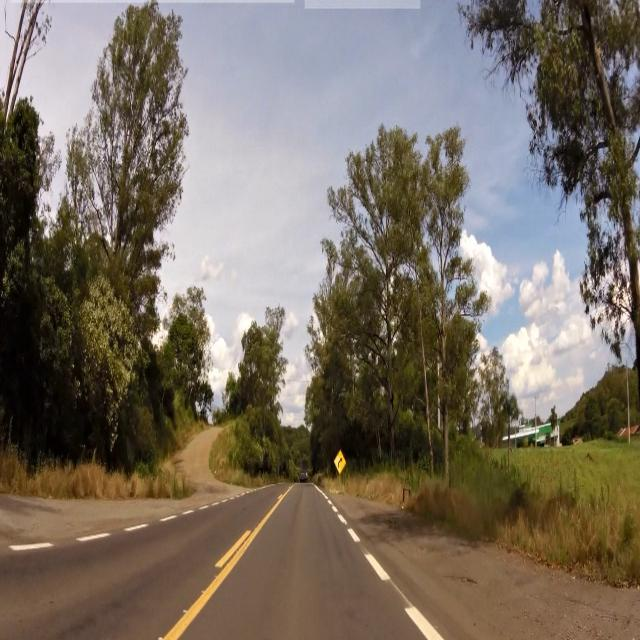A-2b: (334, 449, 347, 474)
